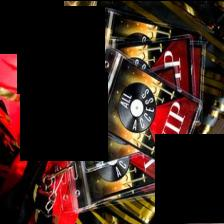red: (0, 37, 55, 106), (150, 96, 197, 167), (0, 97, 46, 146), (9, 29, 58, 65), (41, 72, 67, 138), (61, 70, 87, 122), (131, 151, 172, 178), (57, 213, 78, 224)
